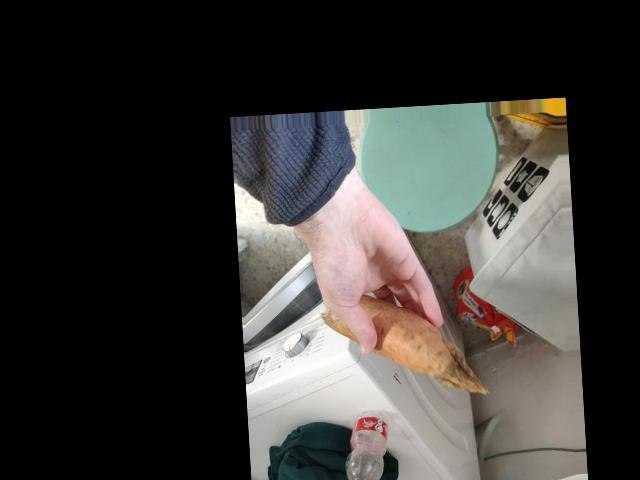sweet_potato: (347, 295, 447, 377)
